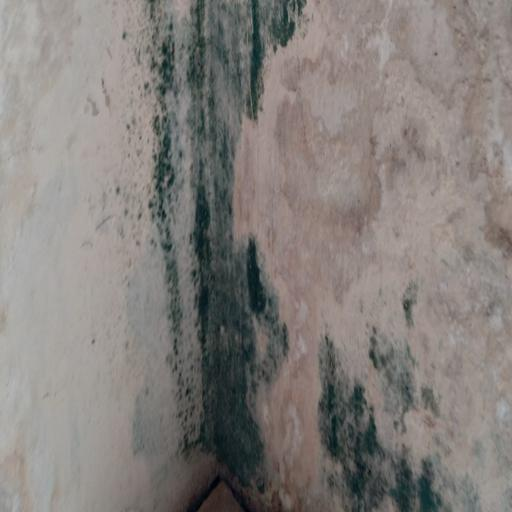algae: (107, 0, 474, 489)
